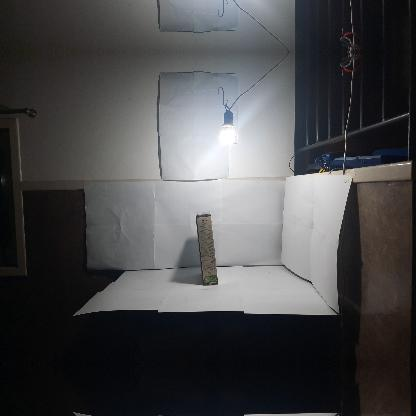Koko-Krunch: (196, 210, 218, 286)
